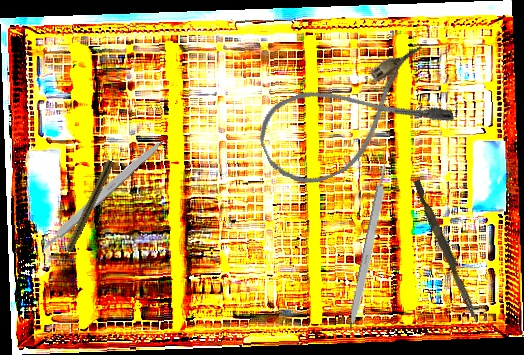Cannula: (249, 41, 457, 198)
Handpiece: (58, 158, 115, 264)
Pusher: (409, 179, 485, 324)
Scalpel Handle: (37, 135, 166, 254), (346, 162, 393, 331)
